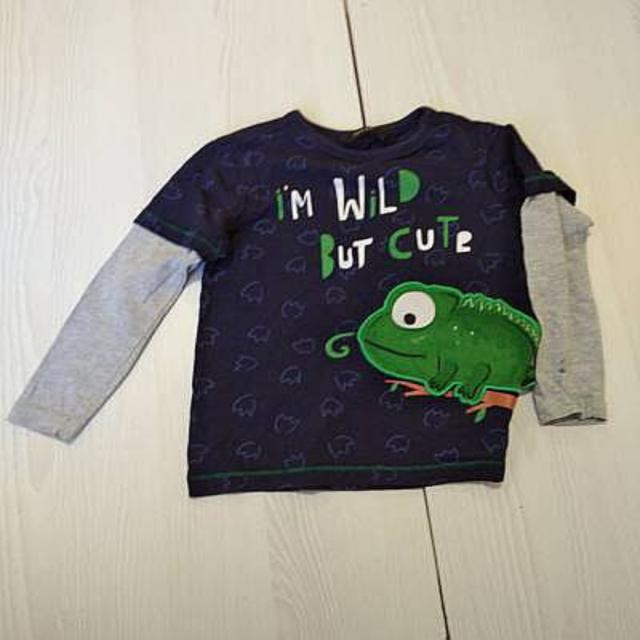T_SHIRT: (3, 99, 624, 502)
